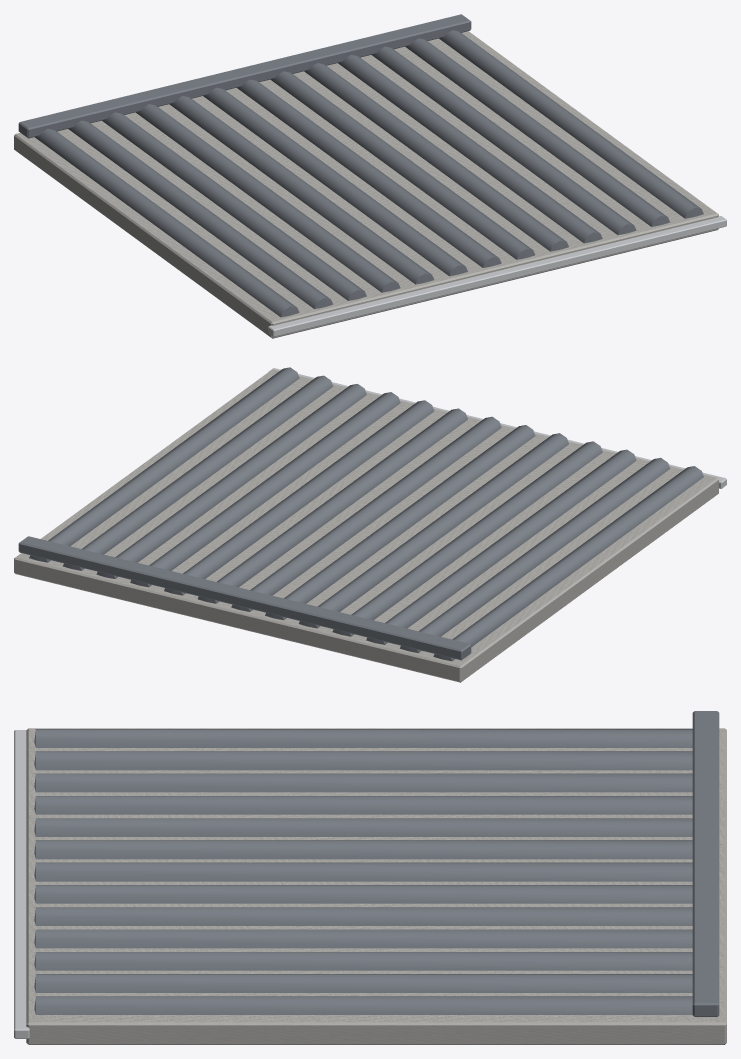
The model's file is home-tiled-roof.glb.
3 renders of one model, top to bottom at view 1: azimuth 30°, elevation 25°; view 2: azimuth 150°, elevation 25°; view 3: azimuth 270°, elevation 25°, orthographic. The views are drawn at different scales.
Visible parts, largest first — view 1: roof-section-tiled; view 2: roof-section-tiled; view 3: roof-section-tiled.
Part boxes in pixels (x1=…): roof-section-tiled: x1=14, y1=14, x2=726, y2=338; roof-section-tiled: x1=14, y1=367, x2=726, y2=682; roof-section-tiled: x1=14, y1=711, x2=726, y2=1044.
Size of the model in its own units: 4.56 by 0.2898 by 4.58.
3 materials, 1 textured.
